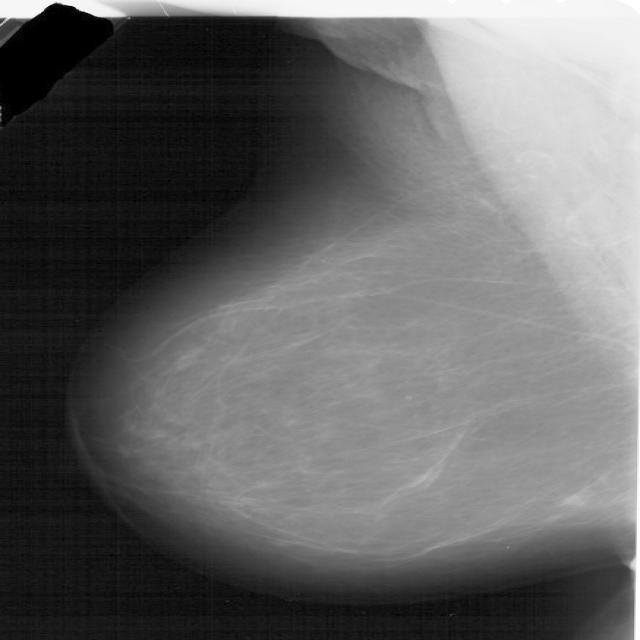tumour: (558, 493, 584, 508)
